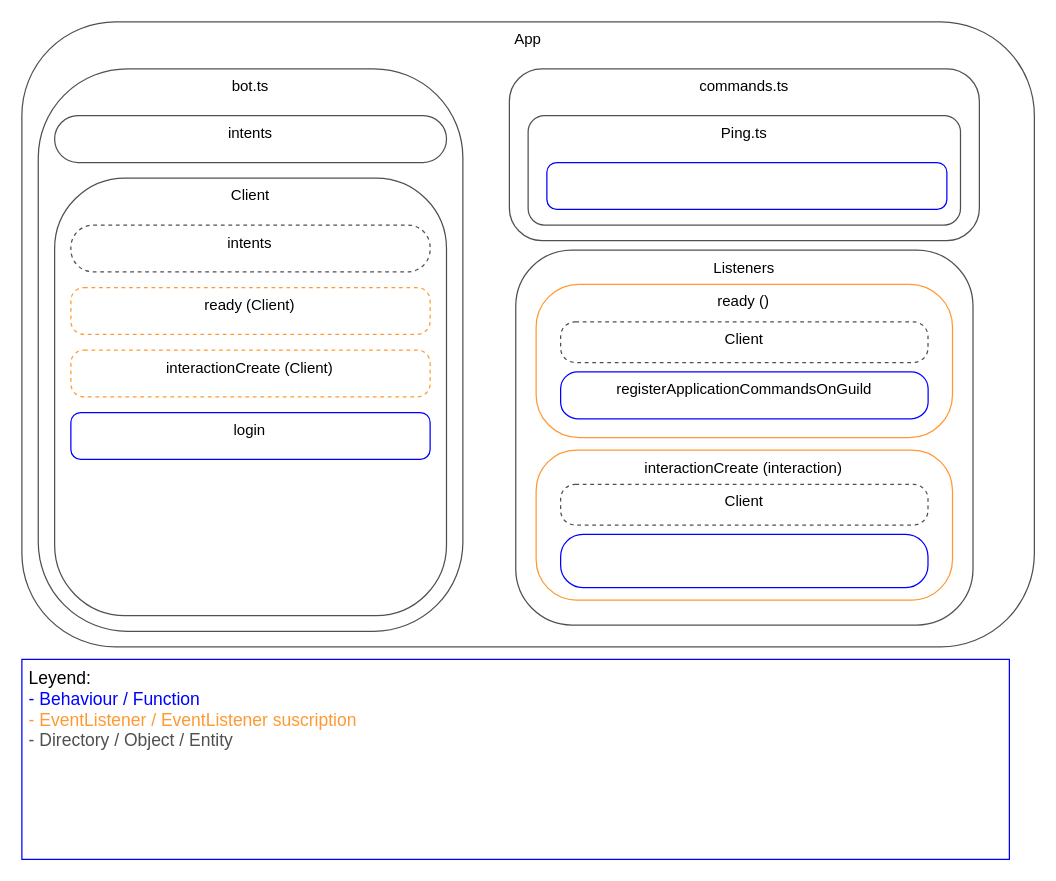
This 1056x881 diagram has some shape labels left out. Here are the shapes that lost their labels. From the top down, the centre of each, then its label:
At (x=746, y=185): "reply 'pong!'".
At (x=743, y=560): "find command interaction.command execute command".
